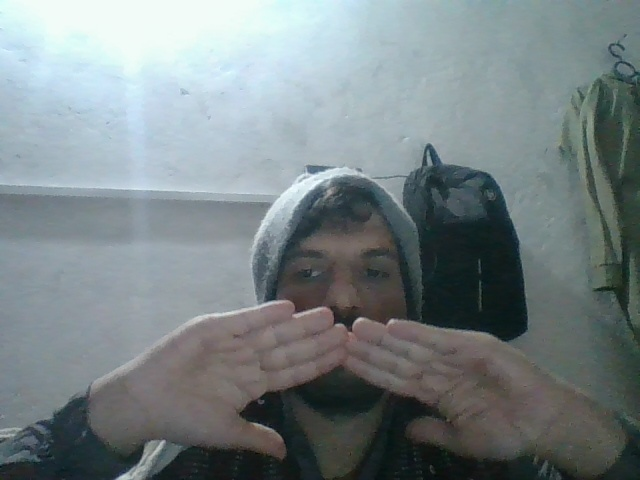ThankYou: (88, 304, 603, 467)
